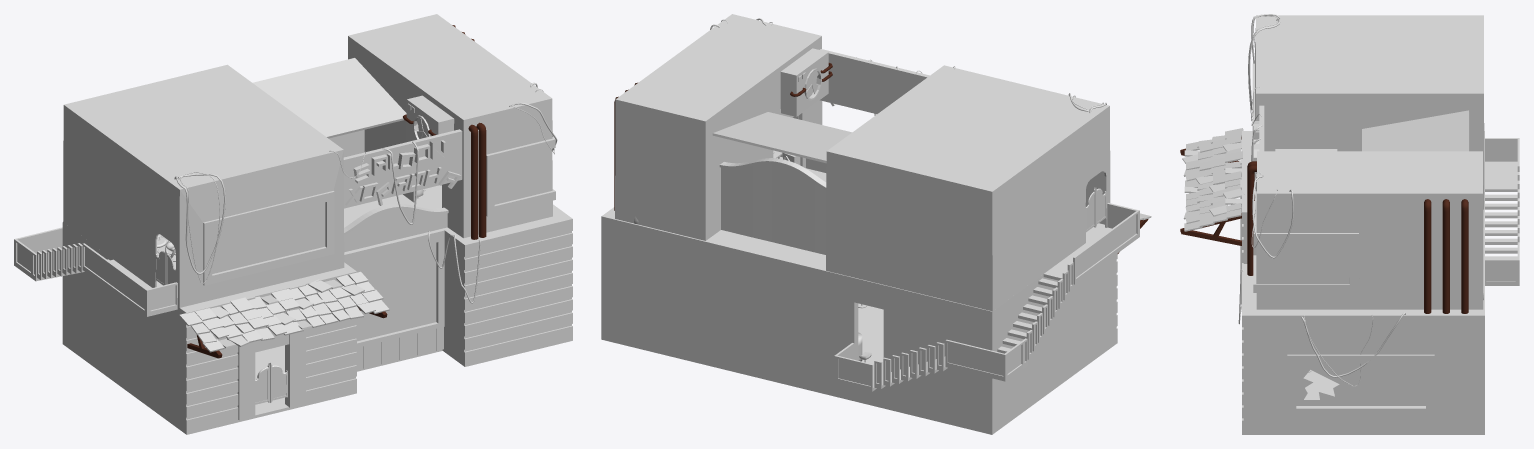
Rendered from SALOON_UV (2).fbx.
The picture shows the model from 3 angles, left to right: view 1: azimuth 30°, elevation 25°; view 2: azimuth 150°, elevation 25°; view 3: azimuth 270°, elevation 25°; orthographic projection. The views are drawn at different scales.
Parts seen in each view (by area): view 1: SEGUNDO_ANDAR.L, frente_madeira, SEGUNDO_ANDAR_R, parede_externa, JANELA_FRONTAL, TELHA, COBERTA, primeiro andar, parte_vidro.001, JANELA_C_VIDRO, JANELA_CANTO, ESCADA_GUARDA (+13 smaller); view 2: SEGUNDO_ANDAR.L, parede_externa, SEGUNDO_ANDAR_R, GUARDA_CORPO_MAIOR, ESCADA_GUARDA, PLACA_APOIO, COBERTA, CHAO, primeiro andar, AR_, ESCADA_GUARDA_IND.002, ESCADA_GUARDA_IND.001 (+2 smaller); view 3: SEGUNDO_ANDAR_R, SEGUNDO_ANDAR.L, parede_externa, JANELA.002, JANELA_CANTO, TELHA, COBERTA, primeiro andar, CANOS_02, ESCADA_GUARDA, ESCADA.001, CHAO (+7 smaller).
Boxes of the visible parts, x1,y1,x2,y2 form: SEGUNDO_ANDAR.L: (63,64,344,307); frente_madeira: (186,219,572,432); SEGUNDO_ANDAR_R: (348,14,552,238); parede_externa: (62,222,185,431); JANELA_FRONTAL: (203,191,334,285); TELHA: (179,271,389,352); COBERTA: (252,58,406,138); primeiro andar: (157,185,572,406); parte_vidro.001: (347,242,436,341); JANELA_C_VIDRO: (344,228,444,370); JANELA_CANTO: (486,137,555,216); ESCADA_GUARDA: (14,227,177,316); SEGUNDO_ANDAR.L: (826,65,1110,311); parede_externa: (601,216,1116,432); SEGUNDO_ANDAR_R: (615,14,822,240); GUARDA_CORPO_MAIOR: (719,158,826,254); ESCADA_GUARDA: (834,203,1139,391); PLACA_APOIO: (820,49,929,113); COBERTA: (712,112,851,163); CHAO: (601,303,1117,434); primeiro andar: (602,156,1105,360); AR_: (780,48,828,116); ESCADA_GUARDA_IND.002: (874,342,944,388); ESCADA_GUARDA_IND.001: (1026,262,1073,359); SEGUNDO_ANDAR_R: (1256,151,1483,309); SEGUNDO_ANDAR.L: (1255,15,1484,209); parede_externa: (1243,315,1484,432); JANELA.002: (1287,354,1434,416); JANELA_CANTO: (1253,201,1359,292); TELHA: (1182,128,1244,231); COBERTA: (1362,110,1469,151); primeiro andar: (1242,131,1484,315); CANOS_02: (1424,199,1468,313); ESCADA_GUARDA: (1485,138,1519,285); ESCADA.001: (1485,194,1517,259); CHAO: (1242,370,1484,434).
Bounding box in the file's own units: 27.94 × 15.4 × 19.8.
